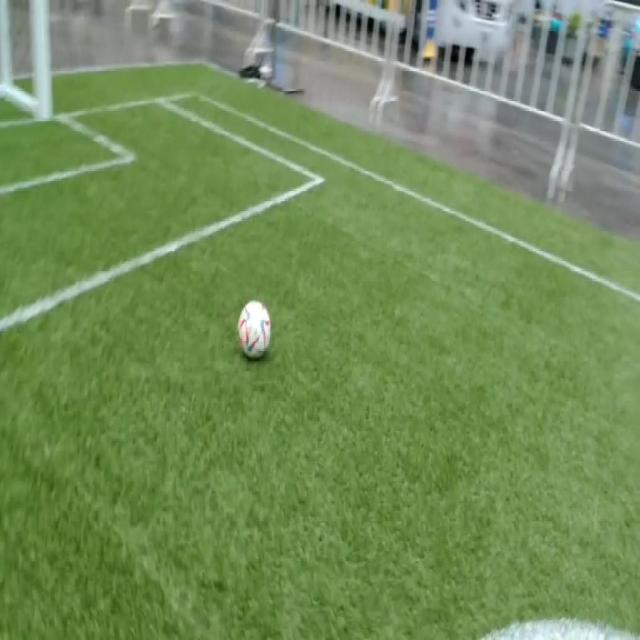ball: (238, 301, 271, 359)
goalpost: (30, 76, 53, 122)
